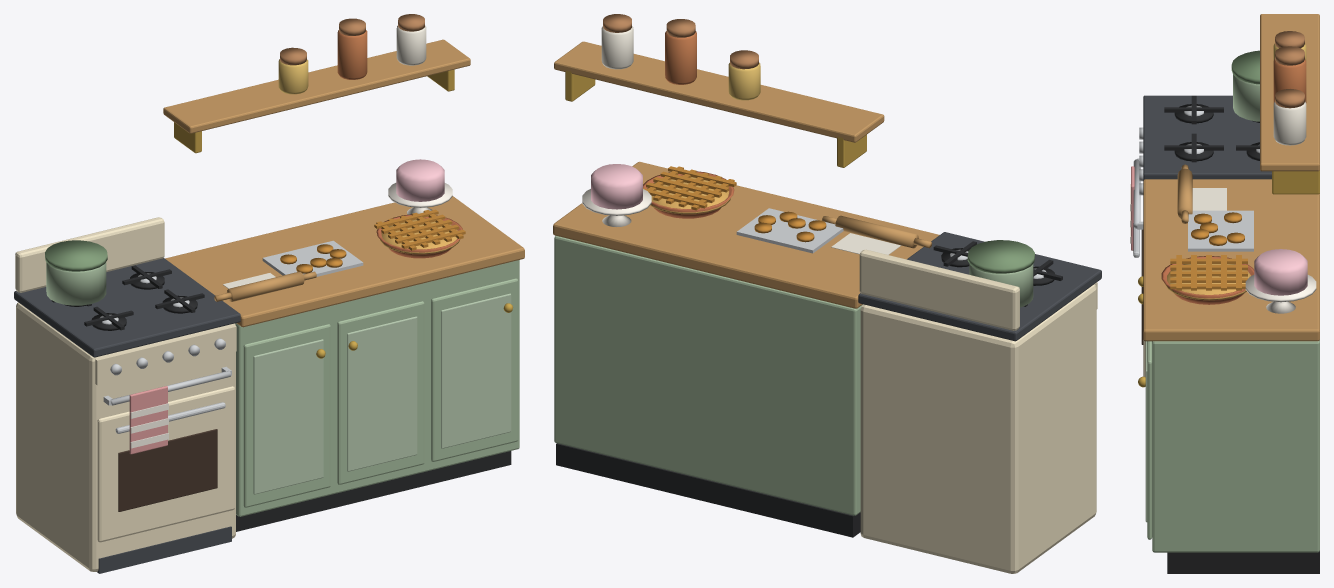
File: neighbourlyOven.glb
3 views of the same model, side by side, from view 1: azimuth 30°, elevation 25°; view 2: azimuth 150°, elevation 25°; view 3: azimuth 270°, elevation 25° (orthographic). The views are drawn at different scales.
Parts seen in each view (by area): view 1: body, oven_door; view 2: body; view 3: body, oven_door.
Part boxes in pixels (box(x1,y1,x2,y2)): body: box(14, 14, 524, 573); oven_door: box(97, 386, 234, 542); body: box(553, 14, 1101, 573); body: box(1130, 14, 1319, 573); oven_door: box(1133, 223, 1145, 376).
Size of the model in its own units: 1.83 by 1.72 by 0.634.
